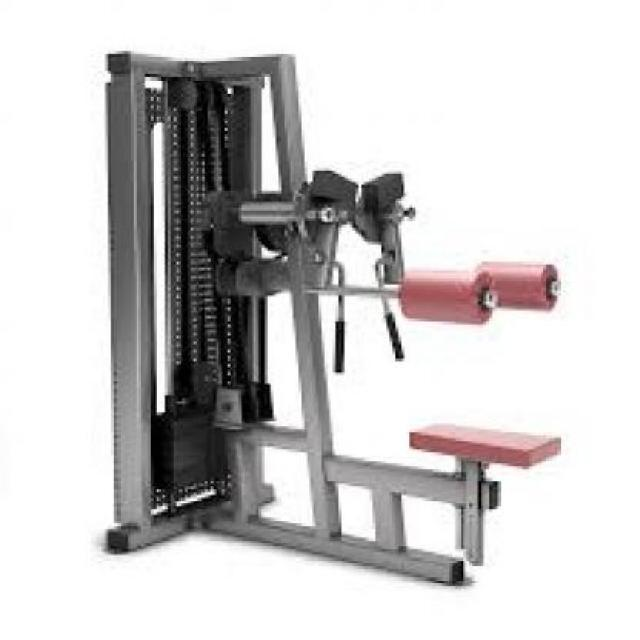lateral raises machine: (105, 51, 566, 592)
